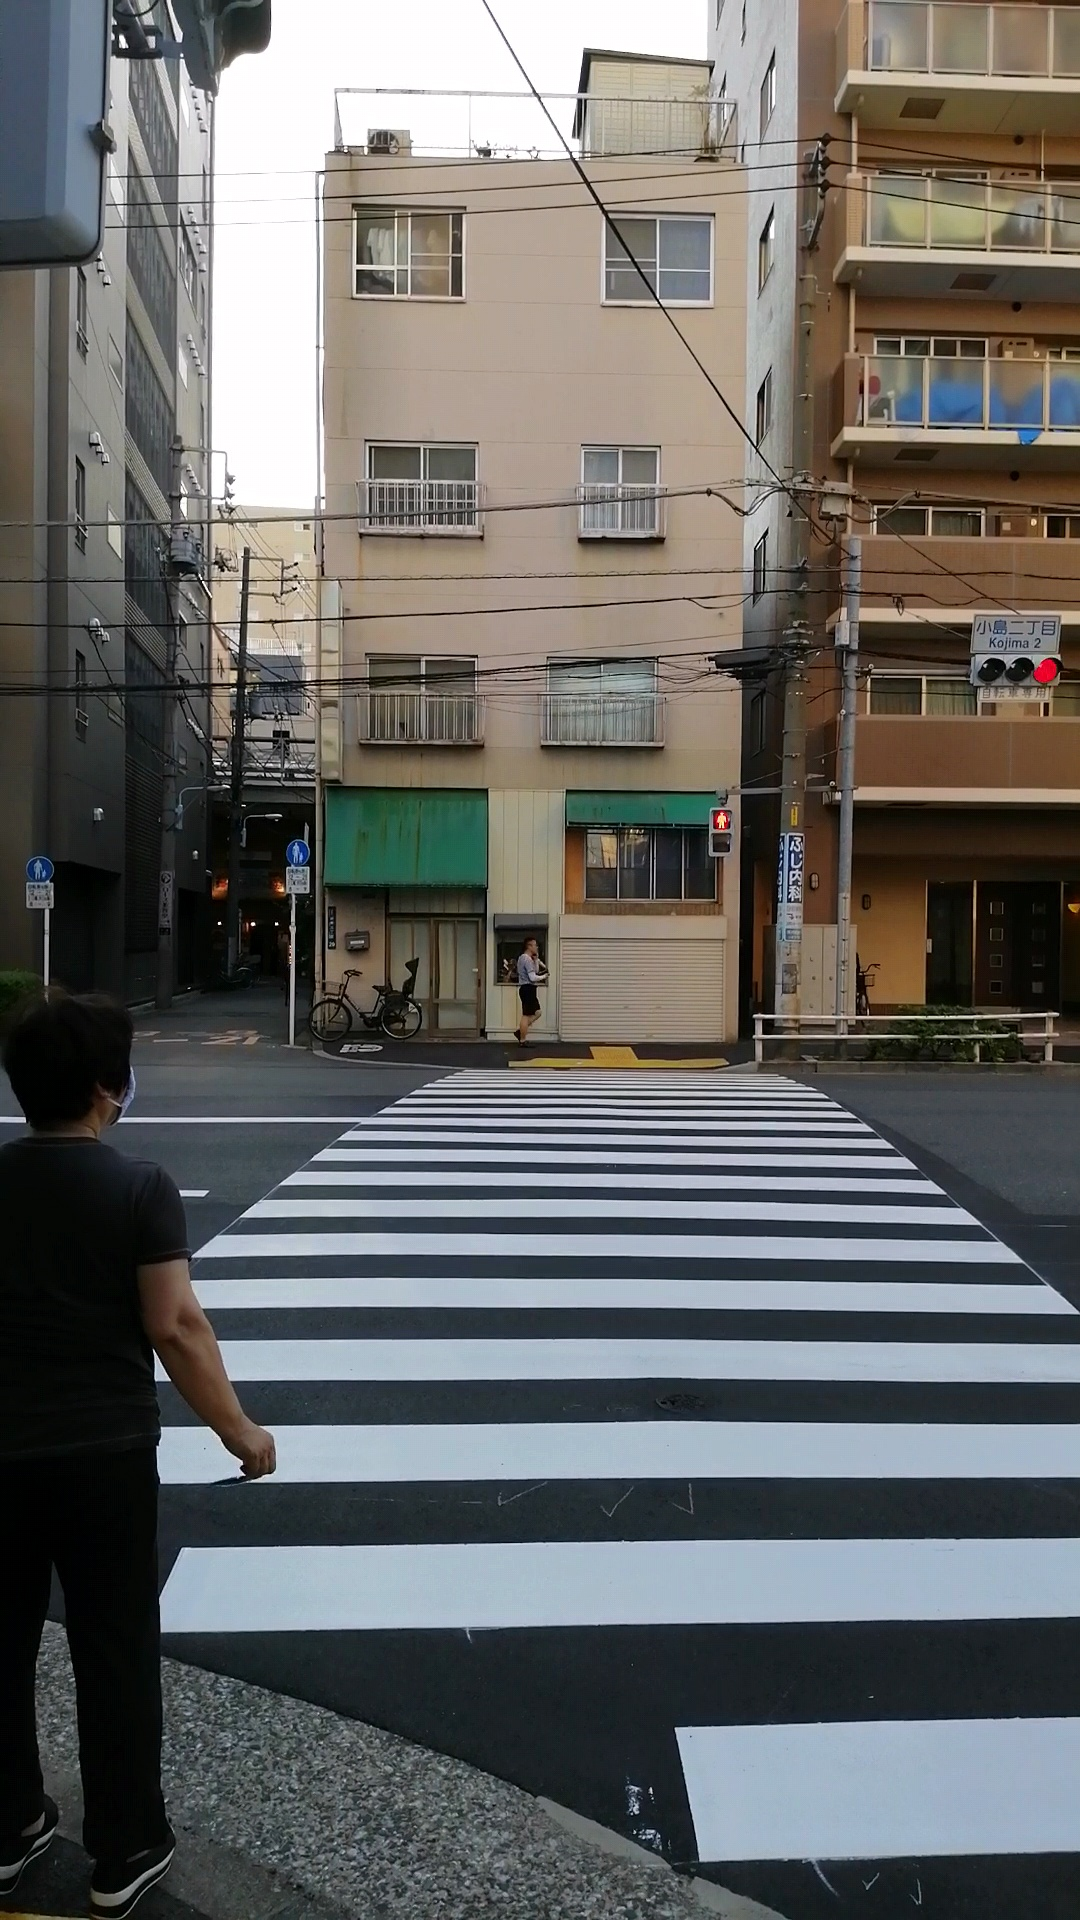red: (707, 804, 736, 857)
